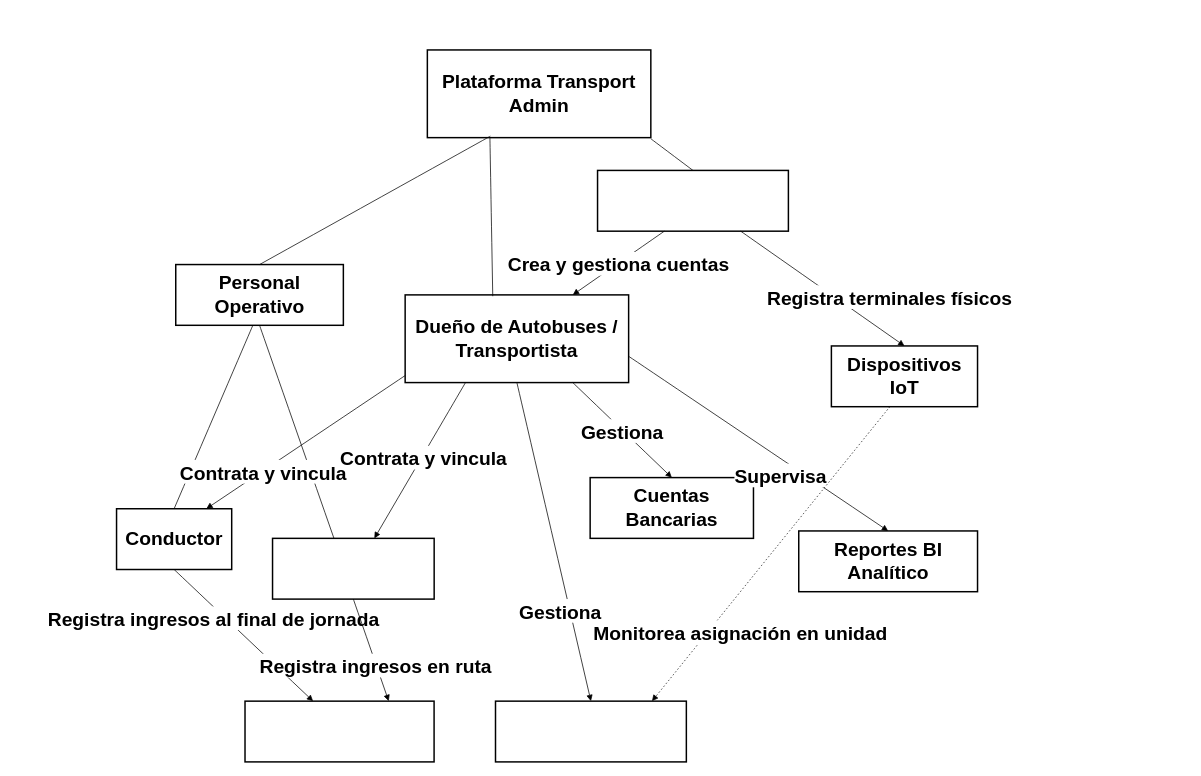
Some shapes in this 1201 by 776 pixel diagram are drawn without their labels. The centre of each missing label's shape, as x and y in pixels:
Administrador General: pixel 692 200
Colector / Avance: pixel 353 568
Flota: Unidades, Rutas: pixel 590 731
Módulo de Pasaje PWA: pixel 339 731
